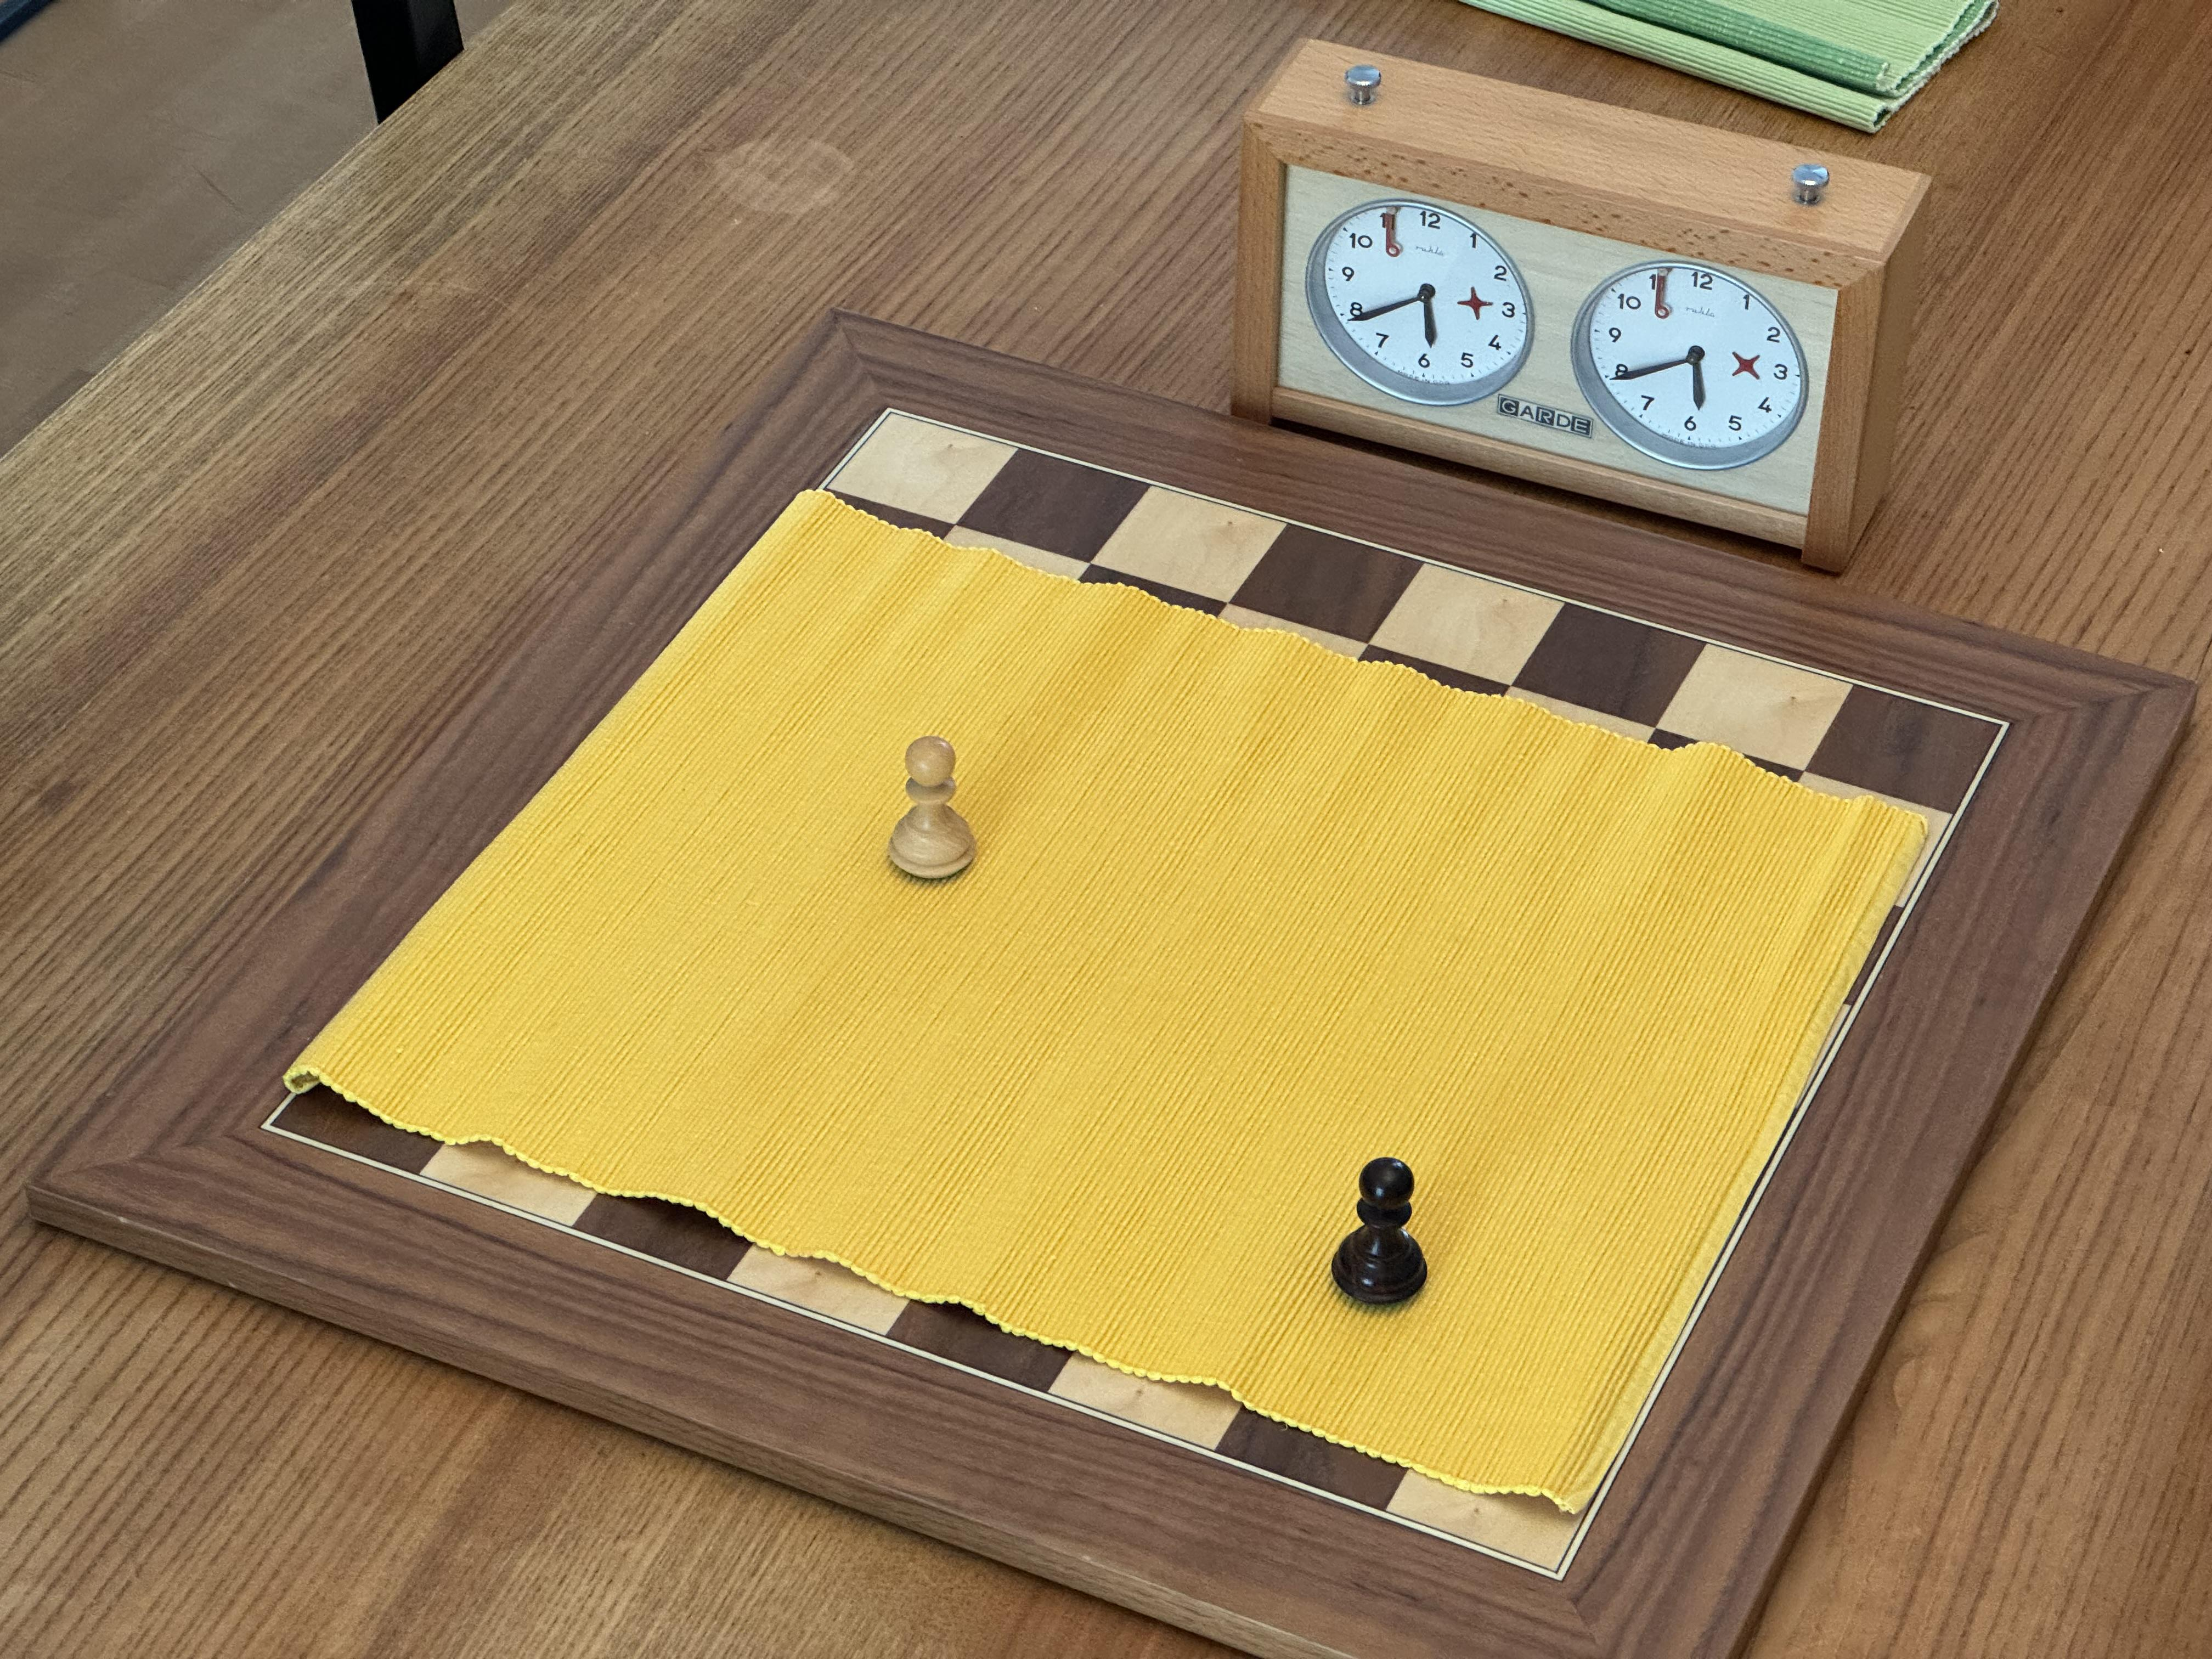Black Pawn: (1327, 1155, 1432, 1319)
White Pawn: (883, 732, 981, 889)
